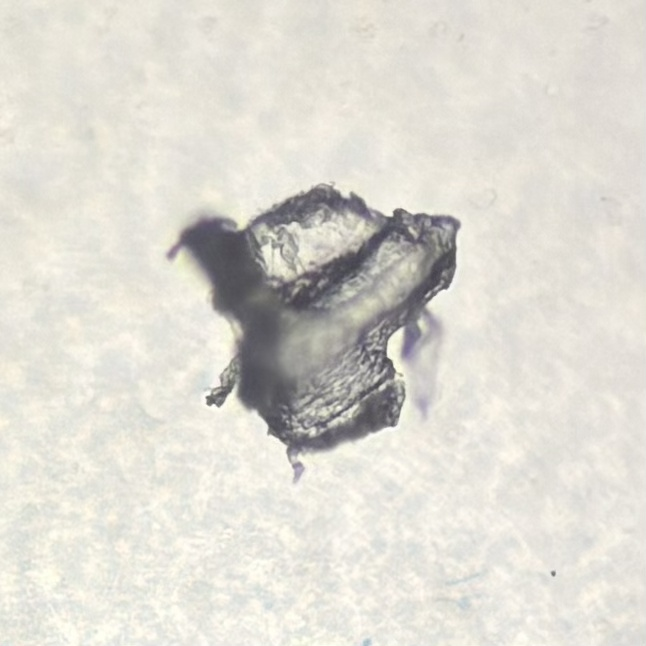microplastic: (165, 182, 461, 483)
